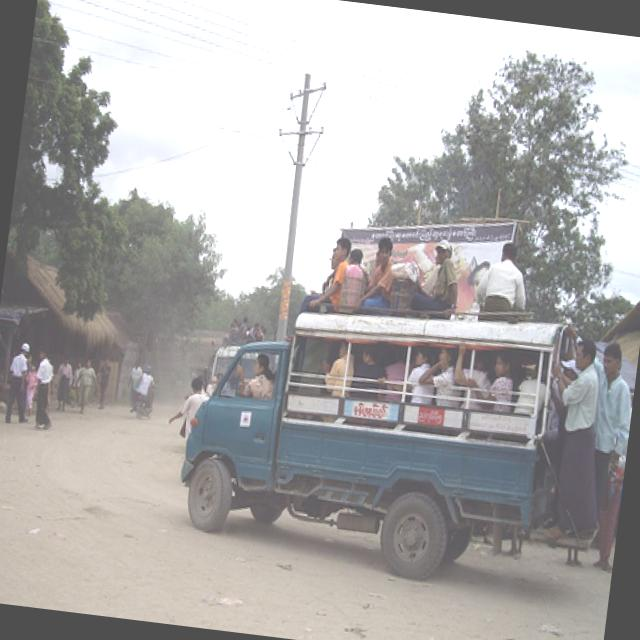Vehicle: (170, 271, 627, 601), (170, 280, 580, 594), (604, 418, 630, 540)
